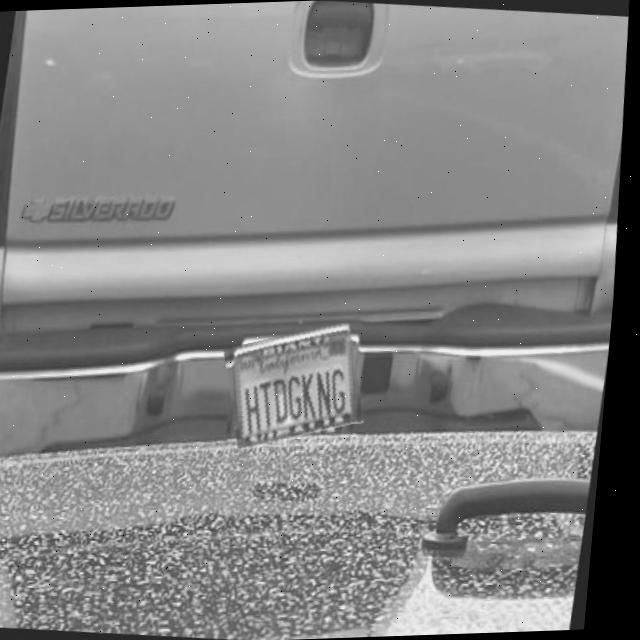LicensePlate: (239, 323, 364, 450)
